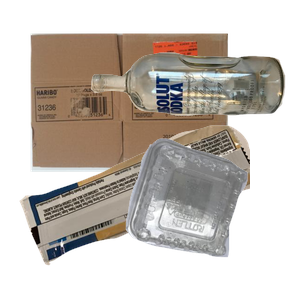cardboard: (28, 31, 249, 195)
glass: (88, 50, 300, 158)
plastic: (123, 136, 300, 300)
trash: (17, 123, 257, 300)
